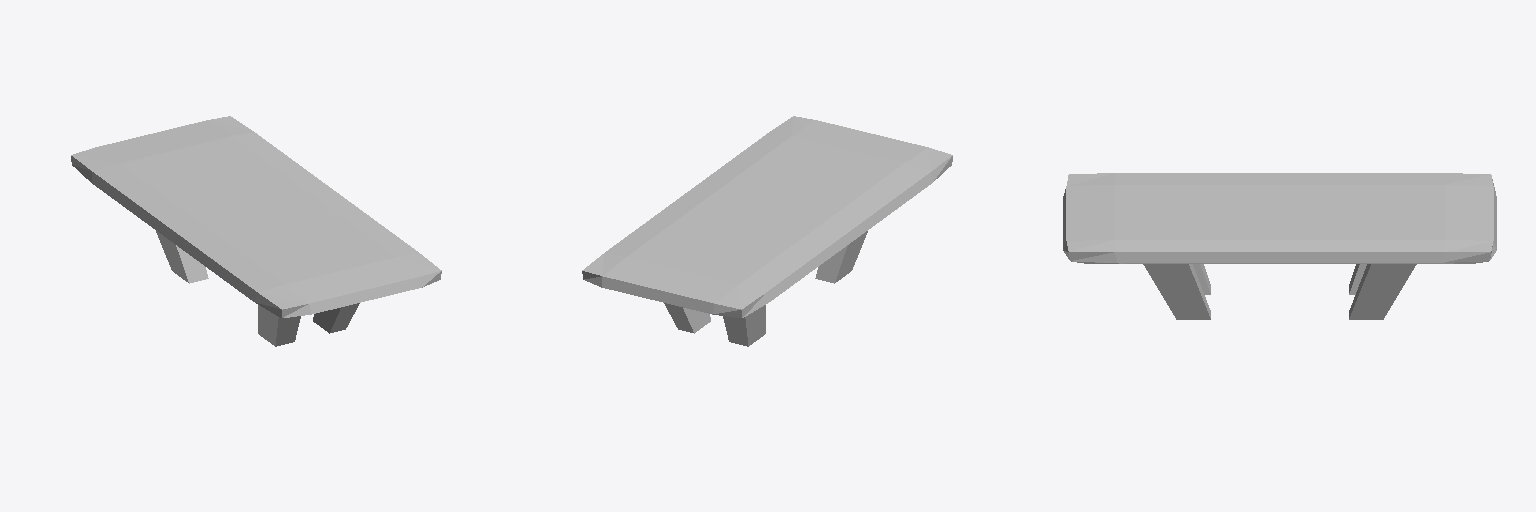
The model's file is Table.obj.
The picture shows the model from 3 angles: view 1: azimuth 30°, elevation 25°; view 2: azimuth 150°, elevation 25°; view 3: azimuth 270°, elevation 25°; orthographic projection.
Parts seen in each view (by area): view 1: Cube; view 2: Cube; view 3: Cube.
Boxes of the visible parts, box(x1,y1,x2,y2) form: Cube: box(71, 116, 441, 346); Cube: box(582, 116, 952, 346); Cube: box(1063, 173, 1496, 319).
Bounding box in the file's own units: 6.91 × 3.58 × 15.6.